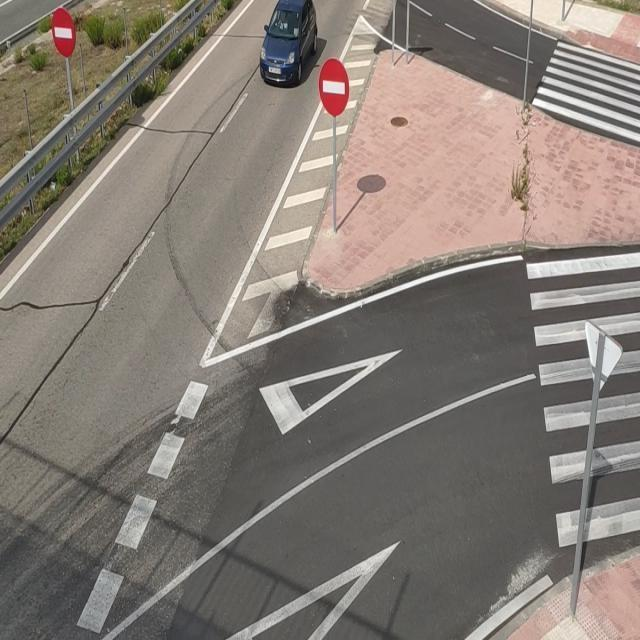Car: (240, 0, 318, 92)
